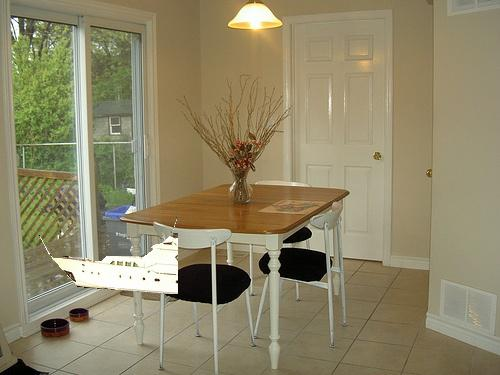tampered: (40, 217, 178, 294)
